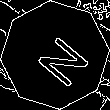N_NW: (23, 23, 87, 87)
